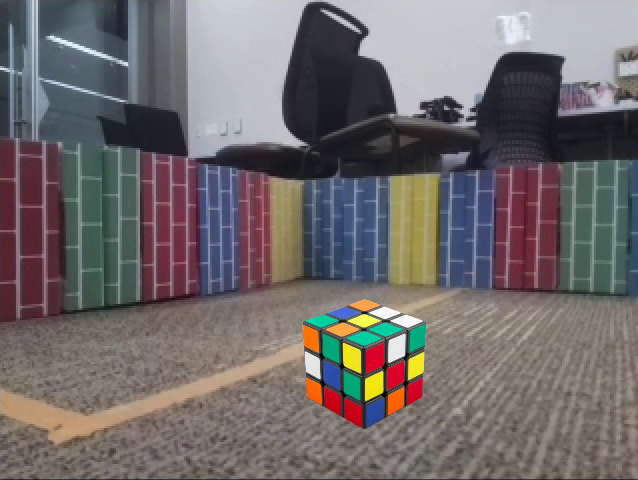ball: (58, 334, 94, 370)
